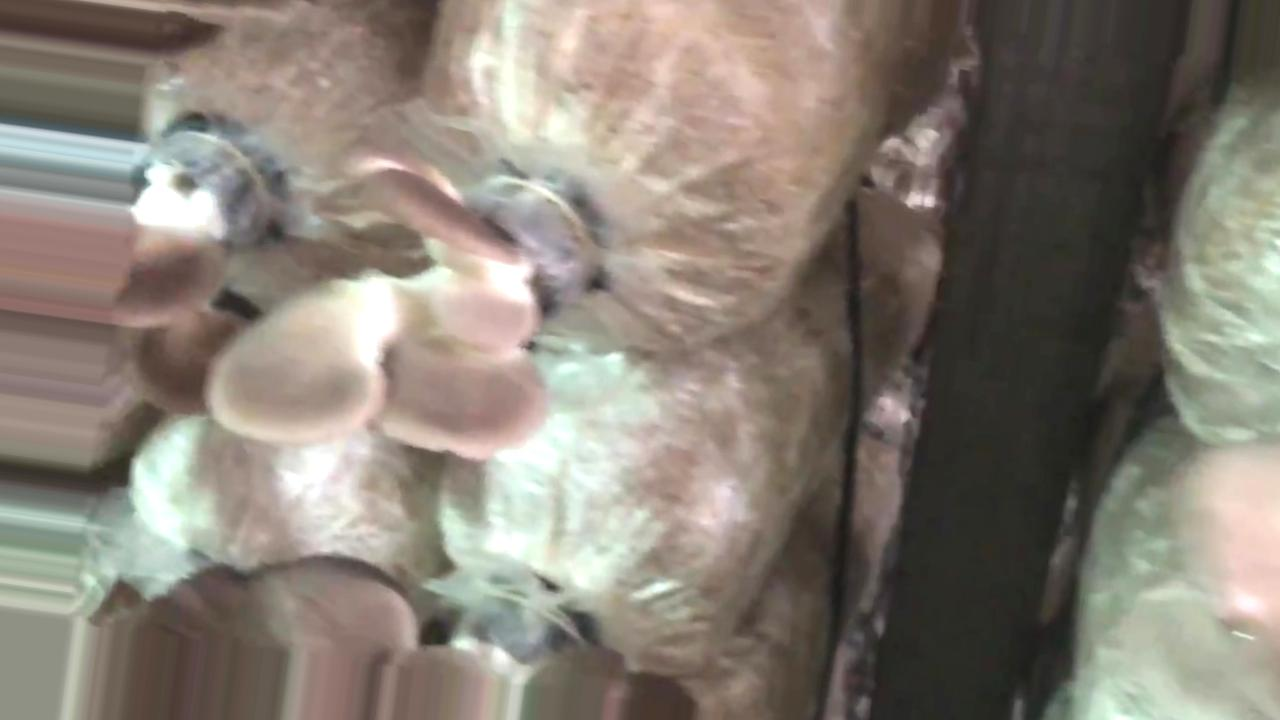nam: (200, 149, 616, 466), (111, 120, 264, 321)
